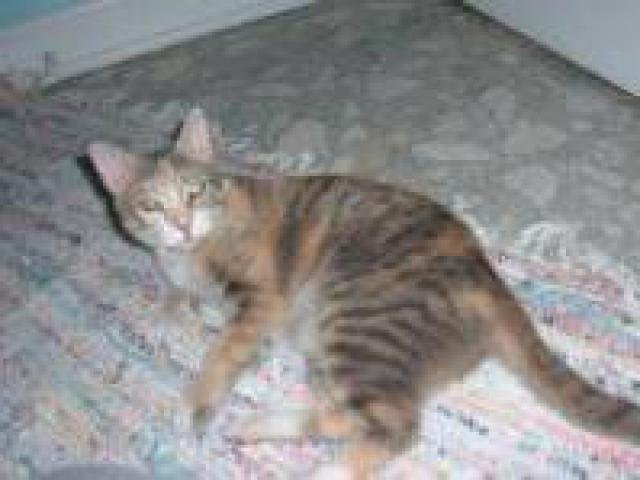cat: (81, 113, 564, 471)
